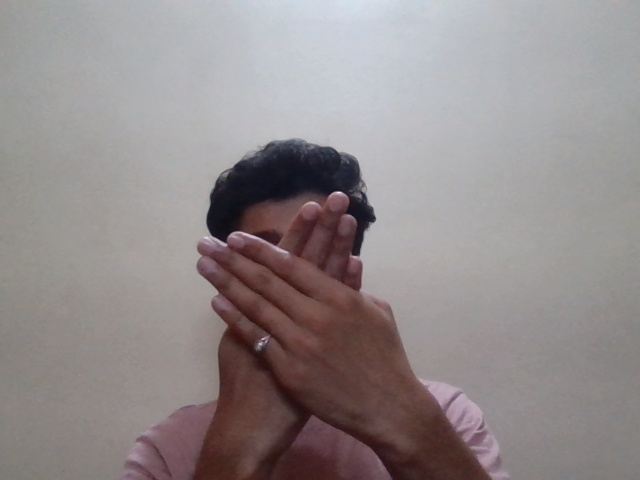what: (181, 189, 424, 417)
